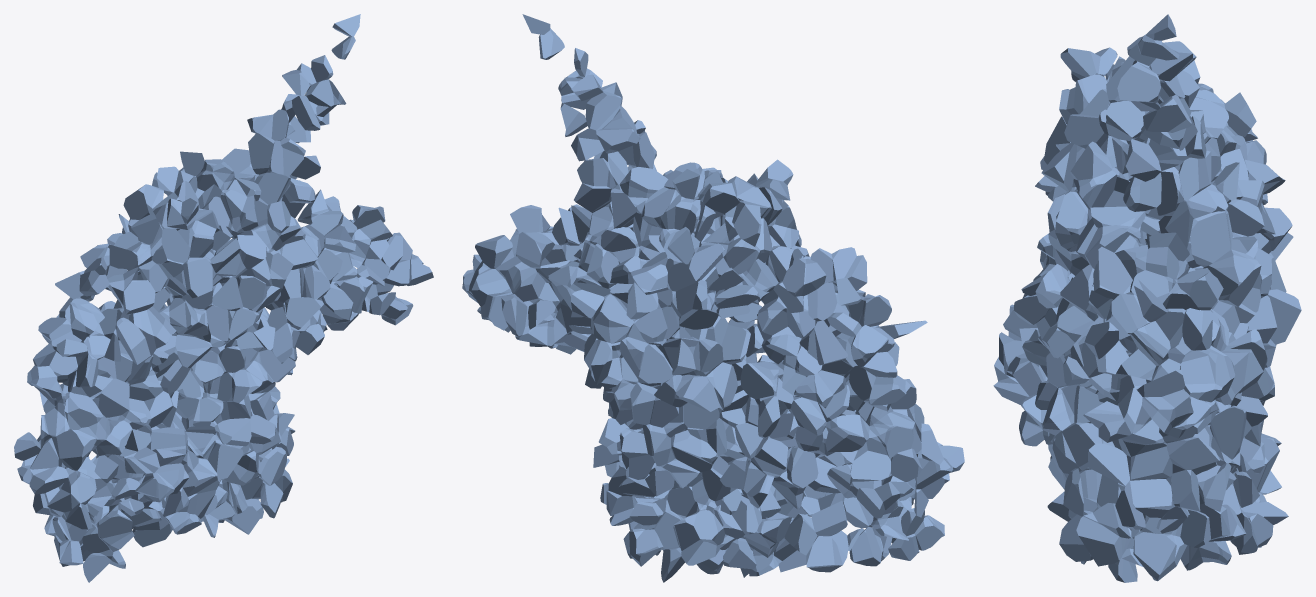
The model's file is 55932_2pct_voromesh.glb.
3 views of the same model, side by side, from view 1: azimuth 30°, elevation 25°; view 2: azimuth 150°, elevation 25°; view 3: azimuth 270°, elevation 25° (orthographic). The views are drawn at different scales.
Visible parts, largest first — view 1: 55932_noise_2pct_voromesh.obj; view 2: 55932_noise_2pct_voromesh.obj; view 3: 55932_noise_2pct_voromesh.obj.
Part boxes in pixels (x1,y1,x2,y2): 55932_noise_2pct_voromesh.obj: (14,14,433,582); 55932_noise_2pct_voromesh.obj: (462,14,964,582); 55932_noise_2pct_voromesh.obj: (993,14,1301,582).
Size of the model in its own units: 1.63 by 1.7 by 0.7432.
